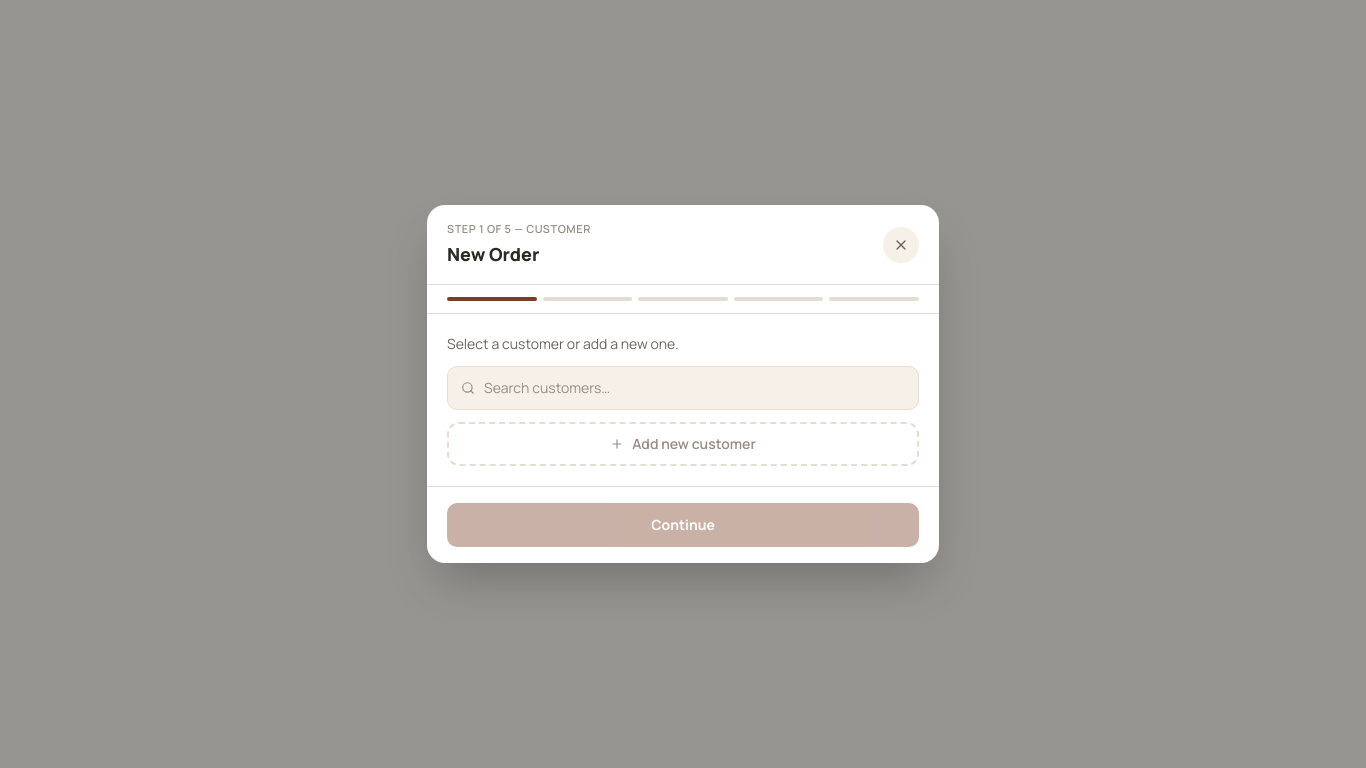
AddOrderModal customer creation › cancels customer creation without invoking persistence
This screenshot has width=1366, height=768.
Click the button "Add new customer": (683, 444) left=447, top=422, right=919, bottom=466
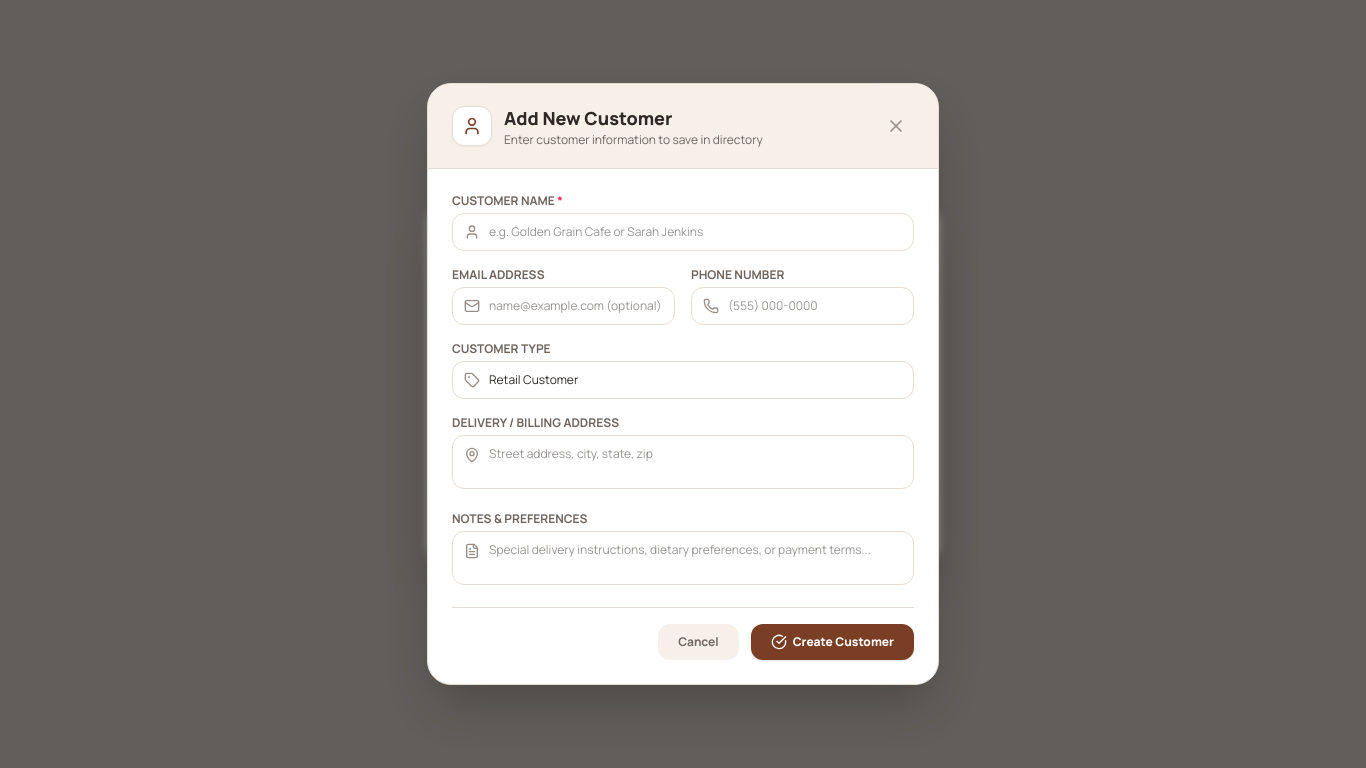
Click the button named "close dialog": (896, 126) left=878, top=108, right=914, bottom=144
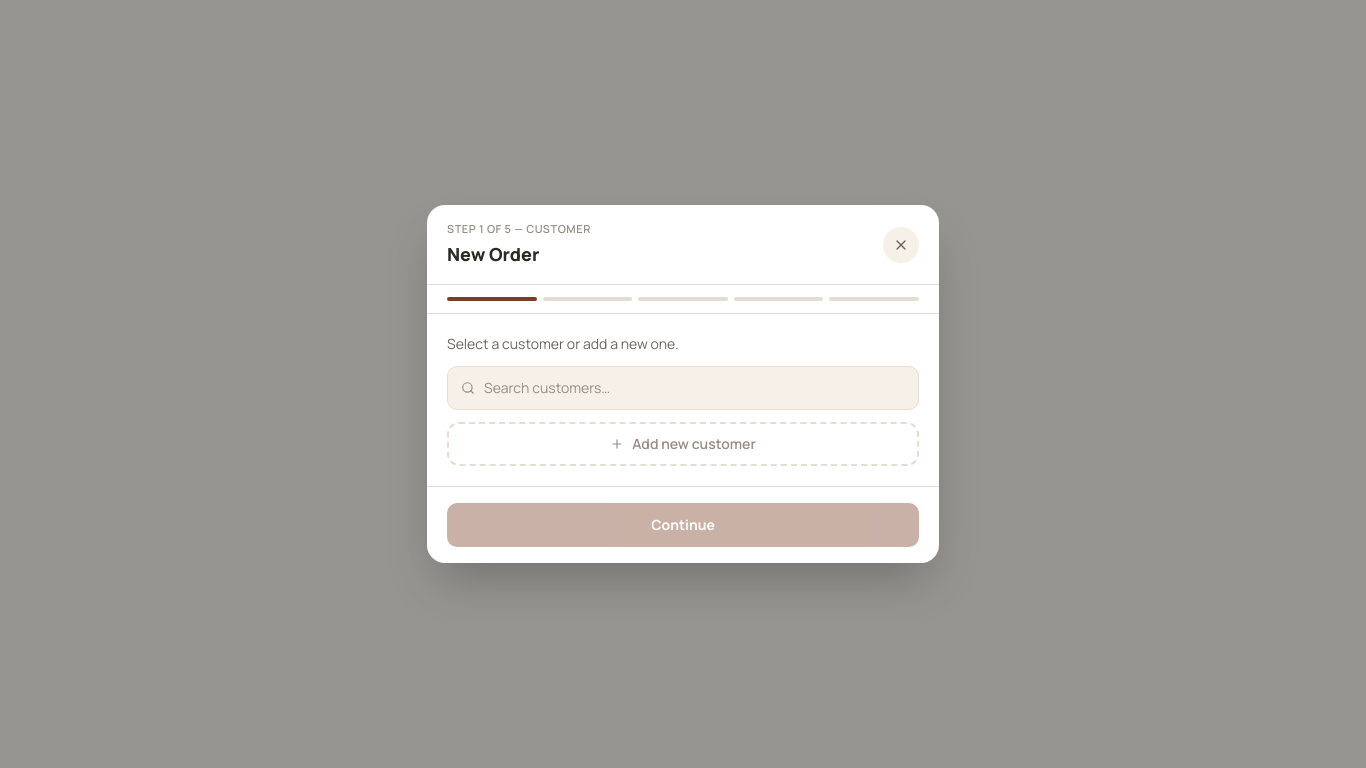
Check: the heading "New Order" is shown, box left=447, top=242, right=540, bottom=266
Check: the dialog is gone
